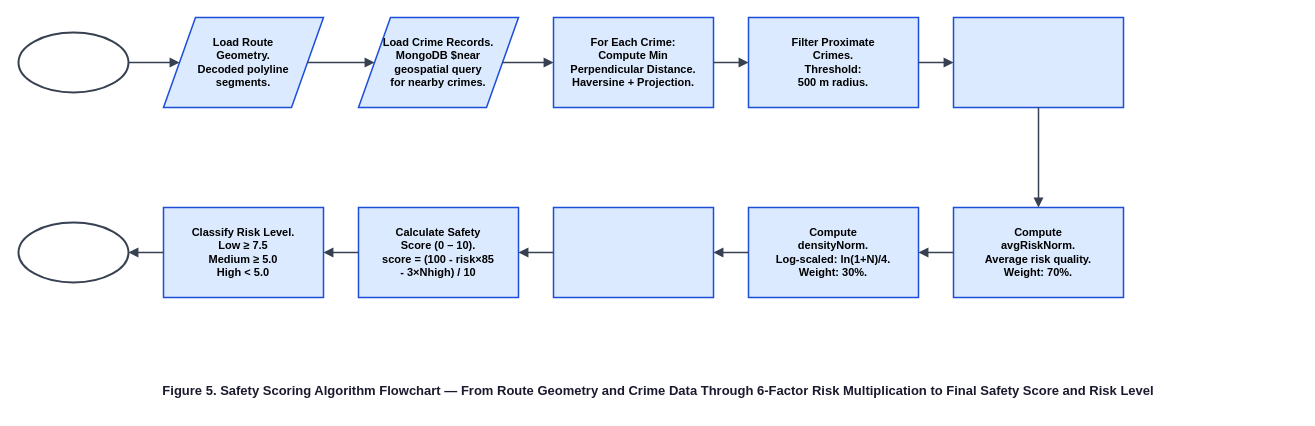
Image size: 1315x426. Some labels were removed from this diagram. The centre of each missing label's shape, as x and y in pixels:
Apply 6-Factor Risk Formula. risk = df×sf×tf× wtype×wc×wtol×10: (x=1038, y=62)
Blend 70 / 30. combinedRisk = 0.70×avgNorm + 0.30×densNorm.: (x=633, y=252)
End: (x=73, y=252)
Start: (x=73, y=62)
